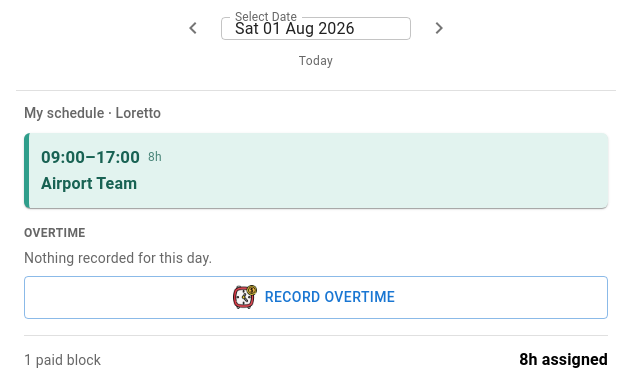
Test case: refetches for the new day on every date change
Expected: the text "Airport Team" is shown, 41,174 -> 137,193
What coordinates should you click on to do the following:
click the button named "Next day"
I would click on:
 (439, 28)
Its box is 419,8 -> 459,48.
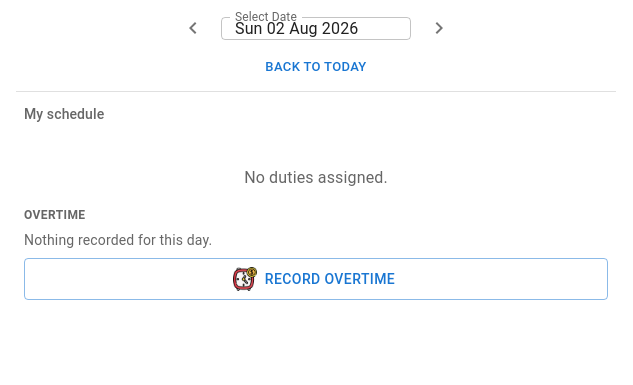
Expected: the text "No duties assigned." is shown, 244,168 -> 388,187
Expected: the button "Back to today" is shown, 260,52 -> 372,83
